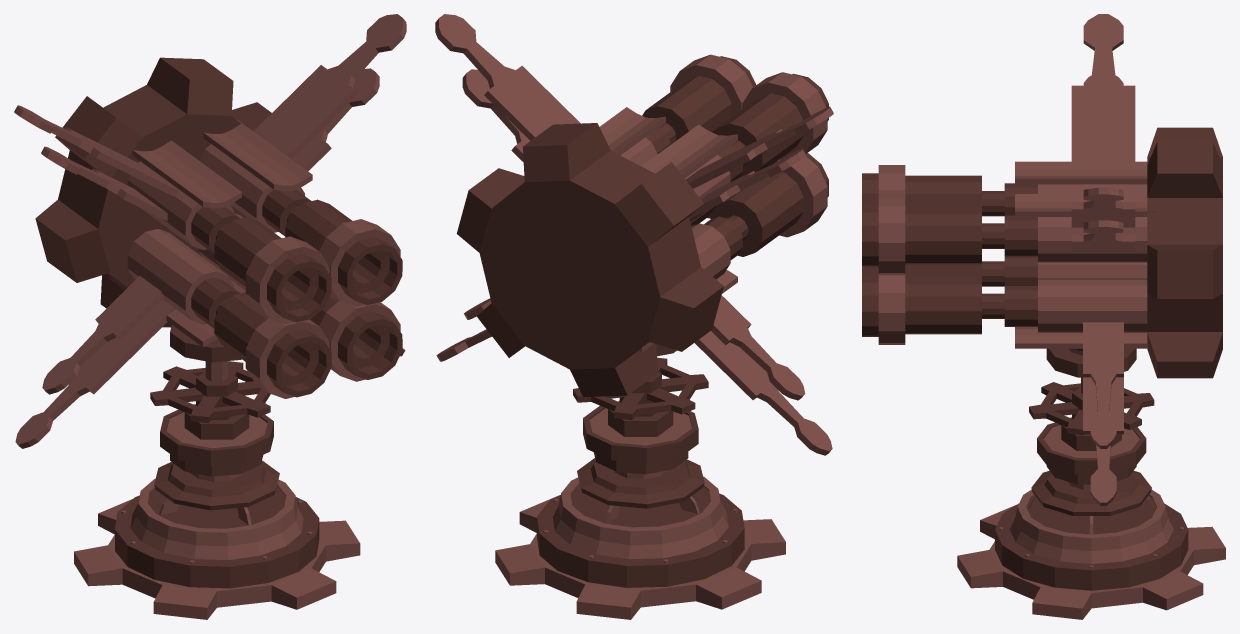
Rendered from bomber-2-006a8f6b1d.glb.
3 renders of one model, left to right at view 1: azimuth 30°, elevation 25°; view 2: azimuth 150°, elevation 25°; view 3: azimuth 270°, elevation 25°, orthographic. The views are drawn at different scales.
Parts seen in each view (by area): view 1: Bomber_2.obj; view 2: Bomber_2.obj; view 3: Bomber_2.obj.
Part boxes in pixels (x1,y1,x2,y2): Bomber_2.obj: (14, 14, 406, 619); Bomber_2.obj: (435, 14, 833, 619); Bomber_2.obj: (862, 14, 1225, 619).
Size of the model in its own units: 2.15 by 2.63 by 1.87.
